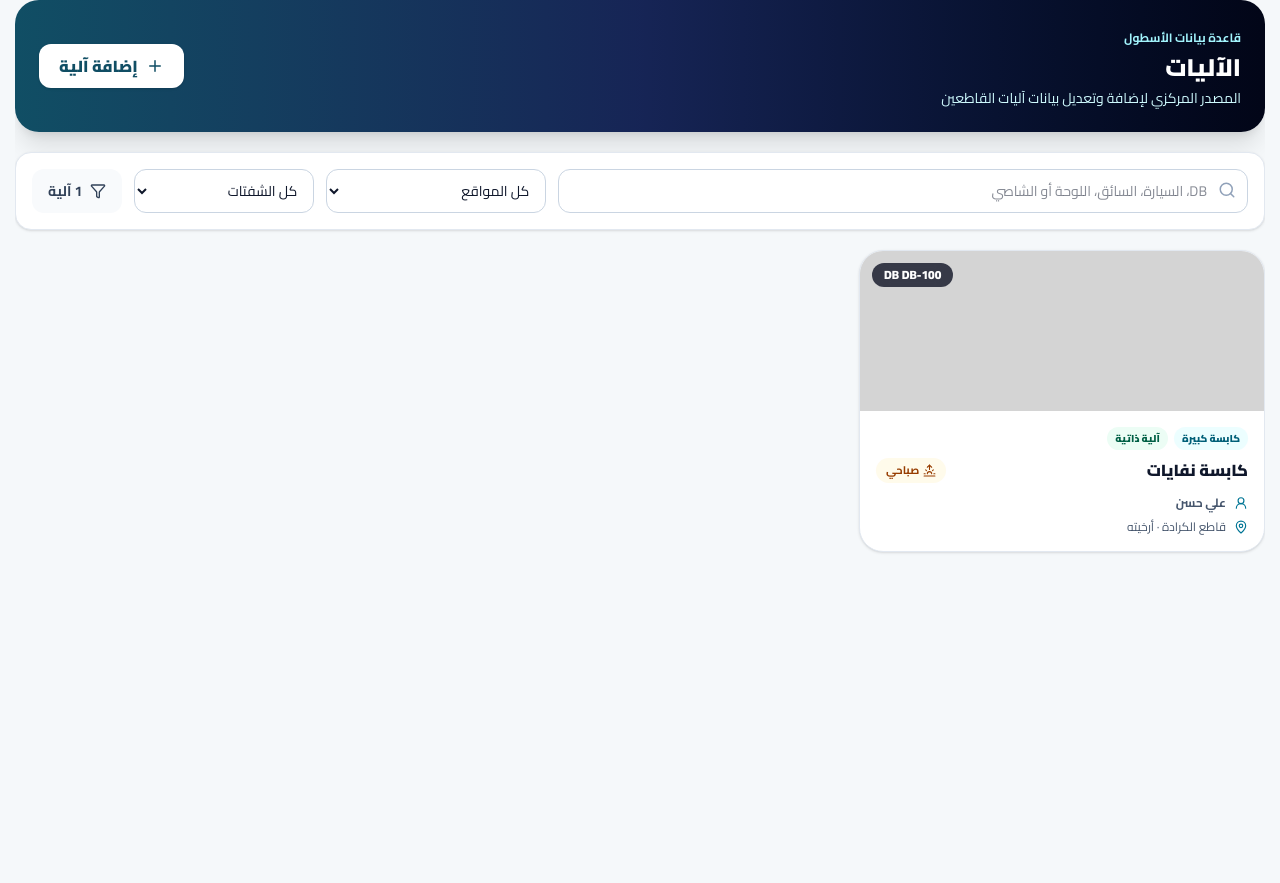
قاعدة بيانات آليات الكراج › تدعم غرفة العمليات تصنيف الآلية والملكية المؤجرة وتطلب اسم الجهة المؤجرة
Expected: the text "كابسة كبيرة" is shown, [1174, 427, 1248, 450]
Expected: the text "آلية ذاتية" is shown, [1107, 427, 1168, 450]
Step 1. Click the button with test id "open-add-vehicle" → (111, 66), box [39, 44, 184, 88]
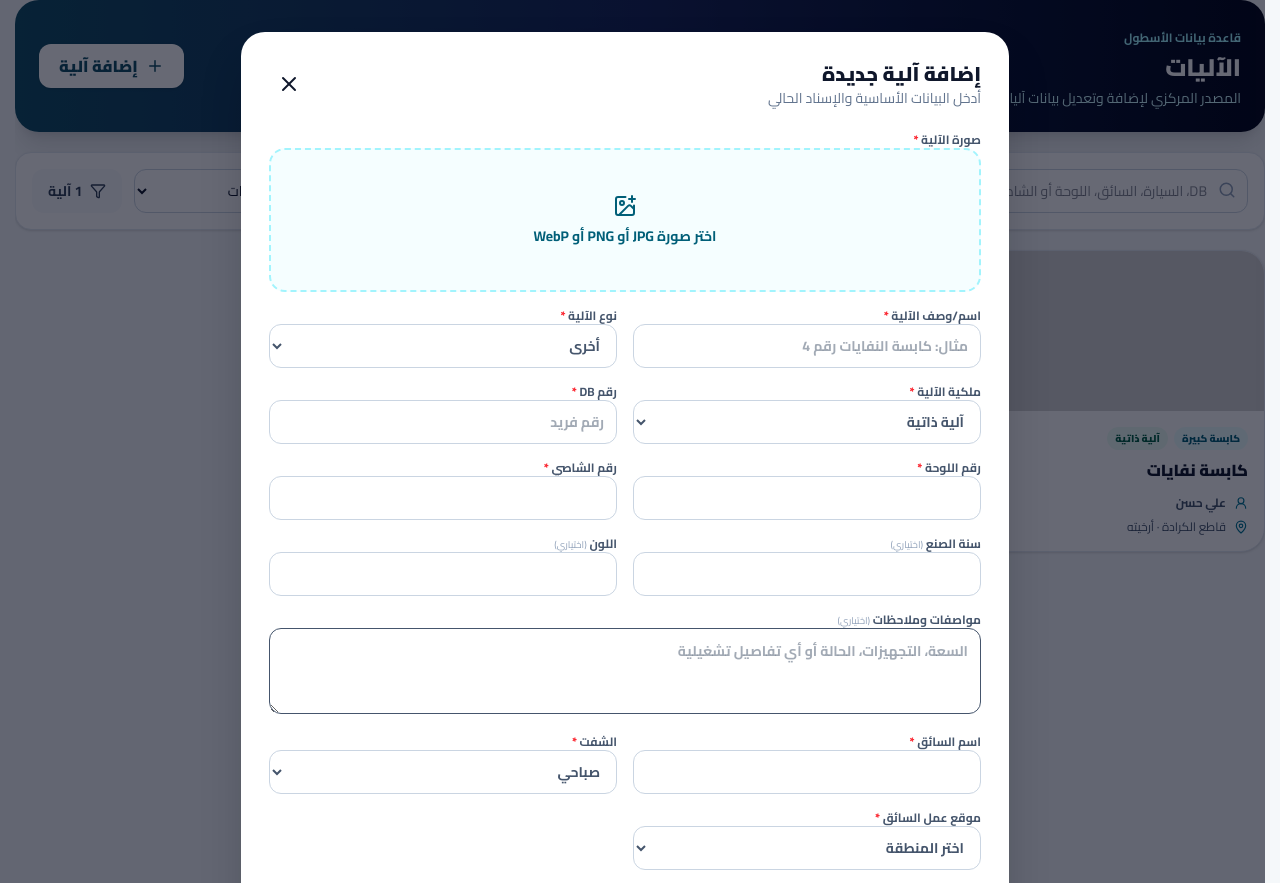
Step 2. Select "تنكر" in the dropdown with test id "vehicle-category" → (443, 346), box [269, 324, 617, 368]
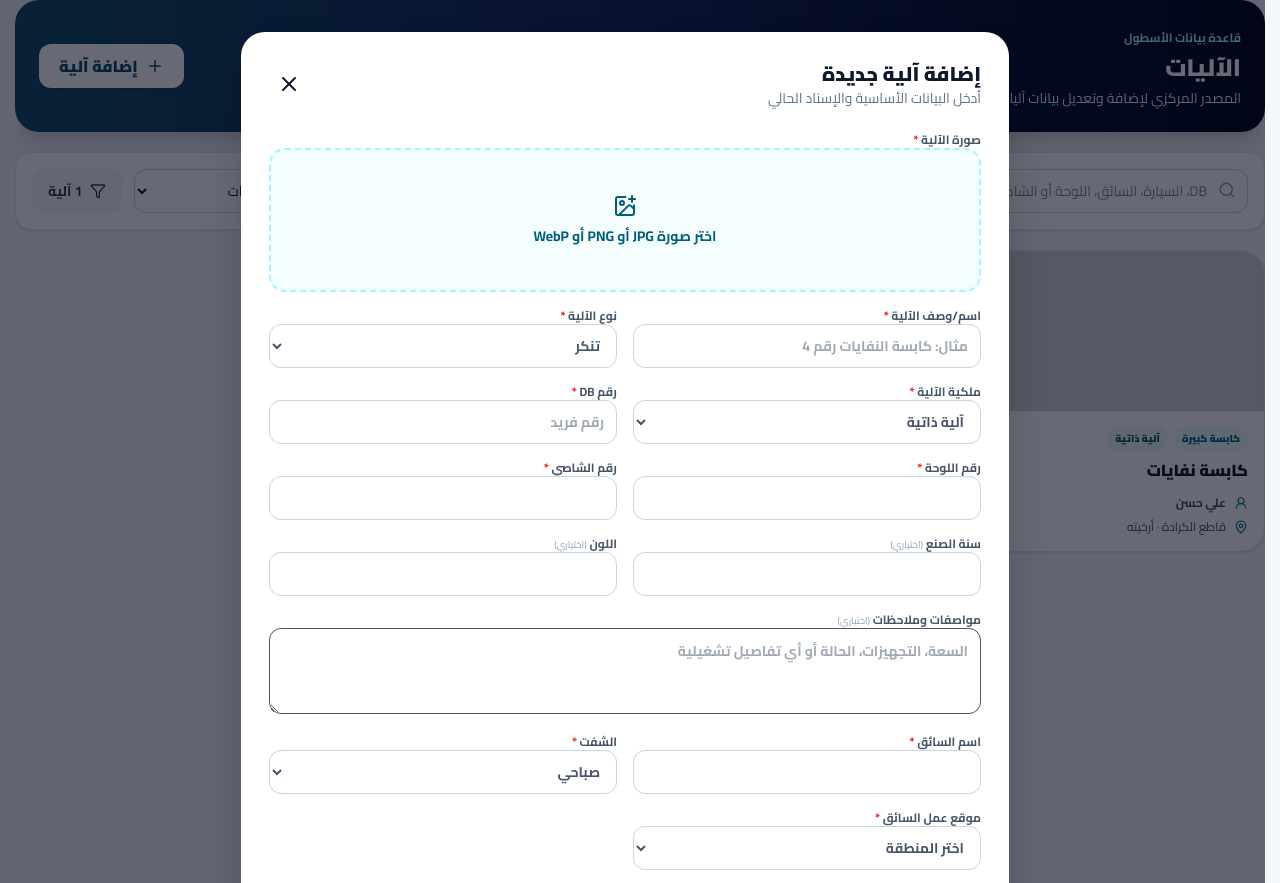
Step 3. Select "آلية مؤجرة" in the dropdown with test id "vehicle-ownership" → (807, 422), box [633, 400, 981, 444]
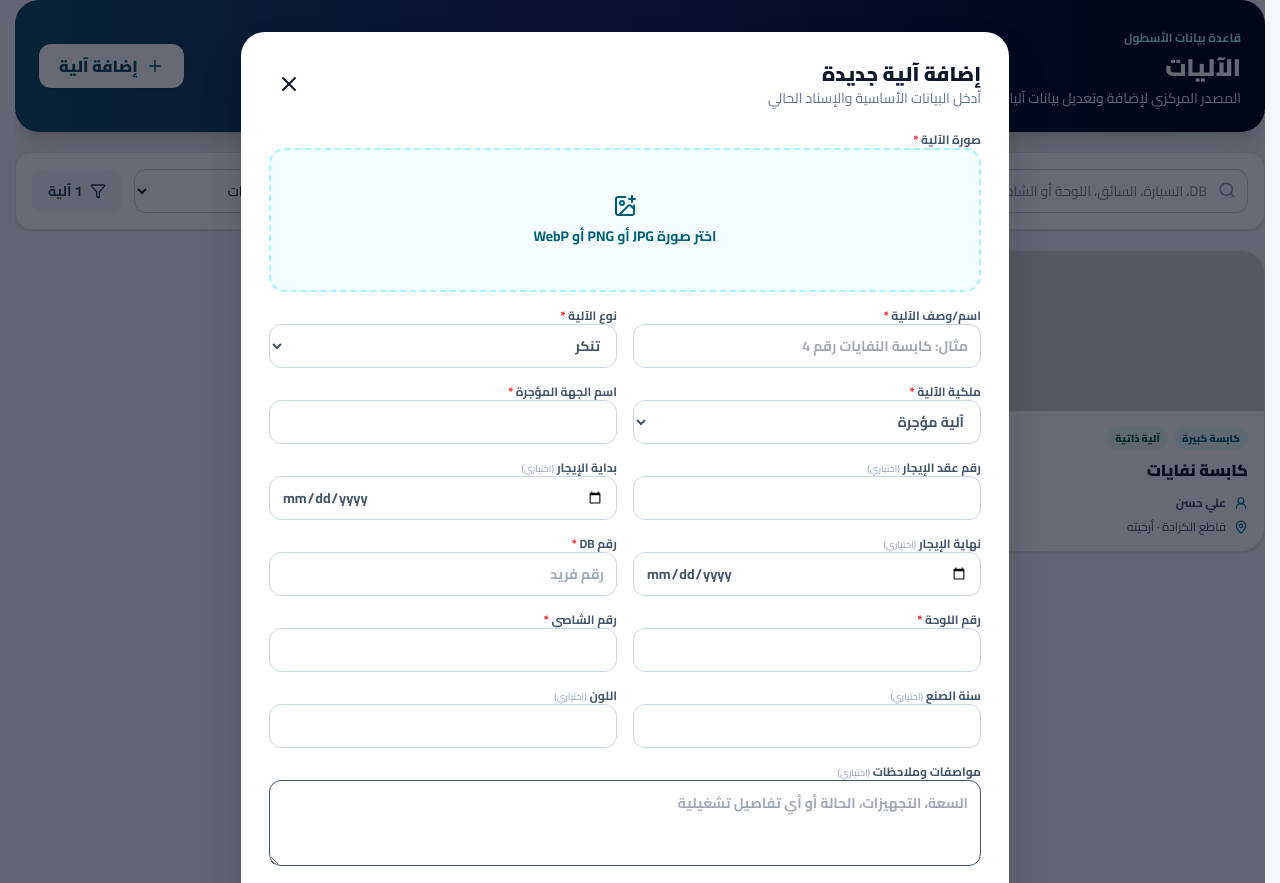
Expected: the field with test id "vehicle-contract" is shown, [633, 476, 981, 520]
Expected: the field with test id "vehicle-lessor" is shown, [269, 400, 617, 444]
